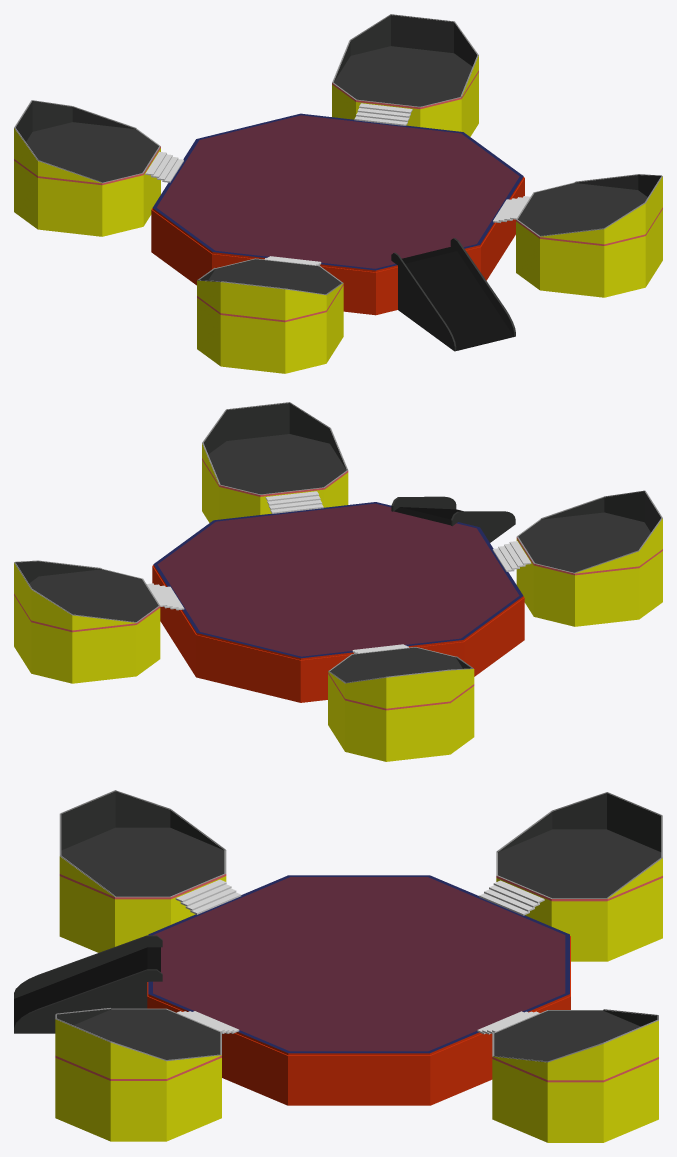
The model's file is hub.fbx.
3 views of the same model, one above another, from view 1: azimuth 30°, elevation 25°; view 2: azimuth 150°, elevation 25°; view 3: azimuth 270°, elevation 25° (orthographic). The views are drawn at different scales.
Parts seen in each view (by area): view 1: main platform, platform.2, platform.003, platform.1, platform.004, stairs, base; view 2: main platform, platform.1, platform.004, platform.2, platform.003, base, stairs, hidden cube; view 3: main platform, platform.2, platform.003, platform.004, platform.1, base, stairs, hidden cube.
Part boxes in pixels (x1,y1,x2,y2): main platform: (152, 113, 523, 272); platform.2: (14, 100, 160, 236); platform.003: (516, 174, 662, 297); platform.1: (197, 258, 343, 373); platform.004: (332, 14, 478, 136); stairs: (391, 238, 515, 351); base: (151, 177, 524, 314); main platform: (153, 502, 523, 659); platform.1: (516, 490, 662, 626); platform.004: (14, 560, 160, 683); platform.2: (328, 647, 474, 761); platform.003: (202, 402, 348, 522); base: (152, 565, 524, 700); stairs: (391, 496, 515, 542); hidden cube: (160, 620, 524, 702); main platform: (148, 875, 569, 1055); platform.2: (496, 792, 662, 961); platform.003: (55, 1008, 221, 1141); platform.004: (492, 1009, 658, 1142); platform.1: (59, 790, 226, 952); base: (147, 936, 570, 1105); stairs: (14, 935, 162, 1033); hidden cube: (222, 1076, 470, 1105).
Bounding box in the file's own units: 4340 × 796 × 4696.
